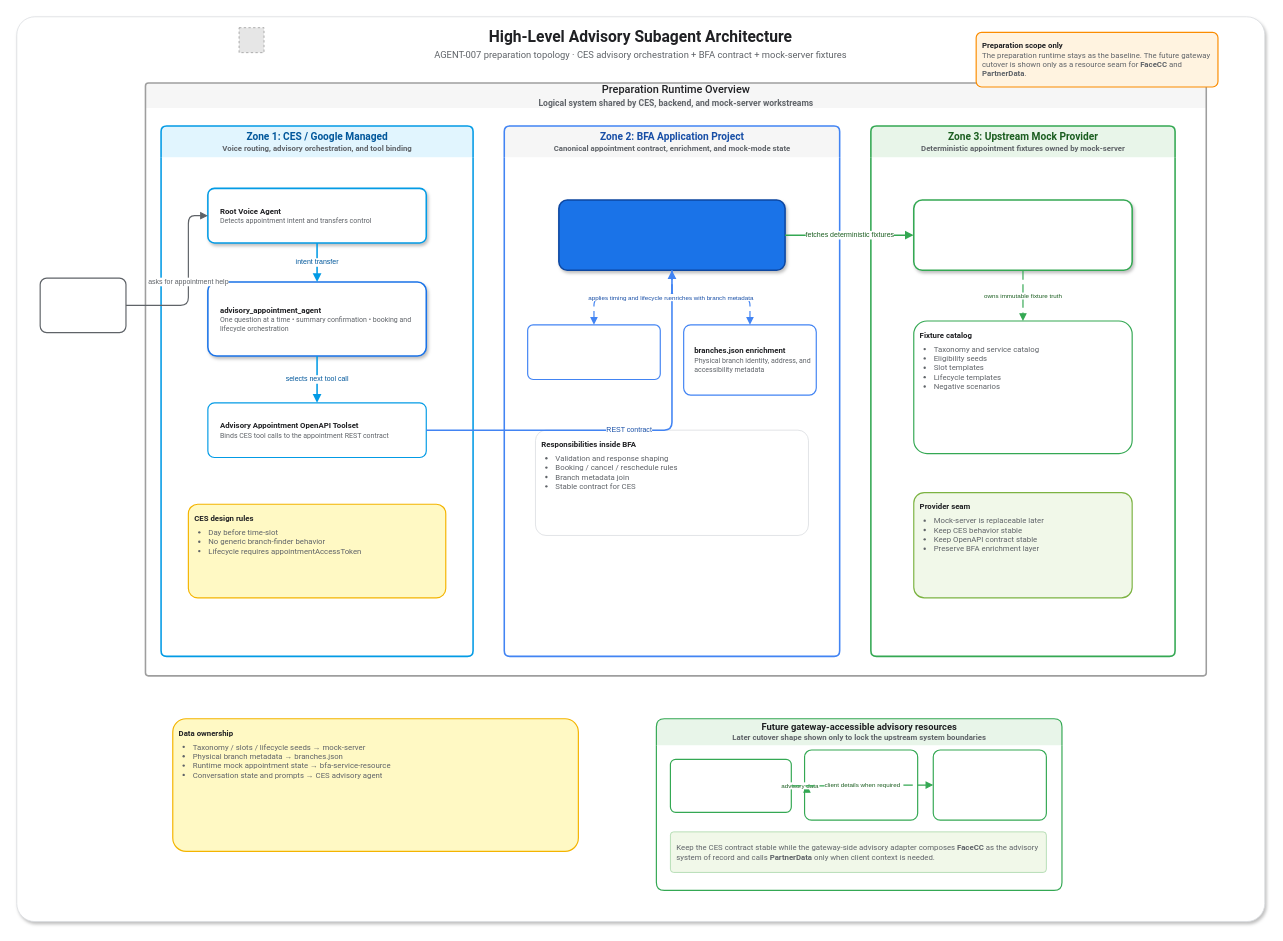
The diagram is 1283 pixels wide and 941 high, and some of its shapes have lost their labels. Grey dashed boxes stand in for pictures. Here are the shapes that lost their labels. From the top down, the centre of each, then its label:
the point at 672,236: bfa-service-resource Appointment domain Canonical CES-facing contract
the point at 1023,236: mock-server Immutable upstream appointment fixture provider
the point at 82,305: Caller Prospect or existing client
the point at 594,352: Runtime overlay Mutable mock-mode appointment state
the point at 730,785: BFA Gateway + AG-004 Gateway-accessible mediation for internal advisory flows
the point at 861,784: FaceCC API Repository for appointments, calendars, and advisors
the point at 989,784: PartnerData API Client-related details for flows that require partner context
